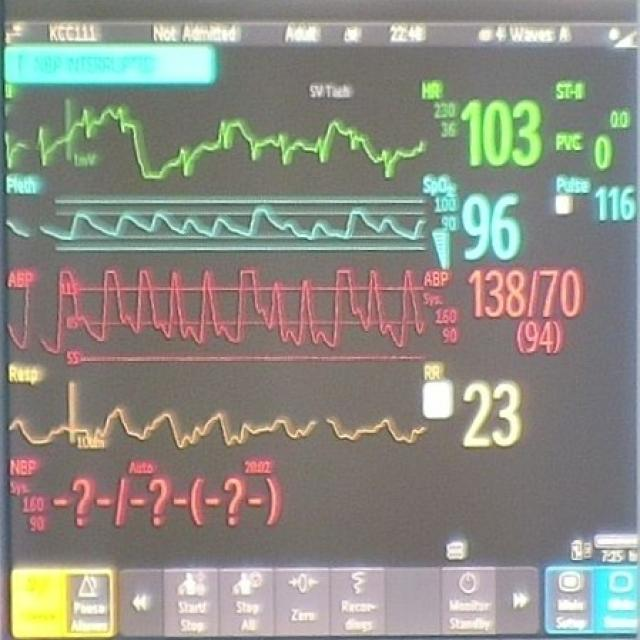display: (0, 0, 640, 640)
frame: (462, 96, 548, 173), (468, 266, 586, 320), (457, 378, 525, 453), (461, 189, 523, 263), (592, 183, 638, 224), (522, 321, 554, 356), (592, 134, 614, 171), (608, 105, 632, 132), (431, 100, 457, 120), (22, 494, 46, 515), (434, 306, 458, 326), (28, 515, 48, 537), (439, 121, 458, 140), (442, 327, 458, 348)
